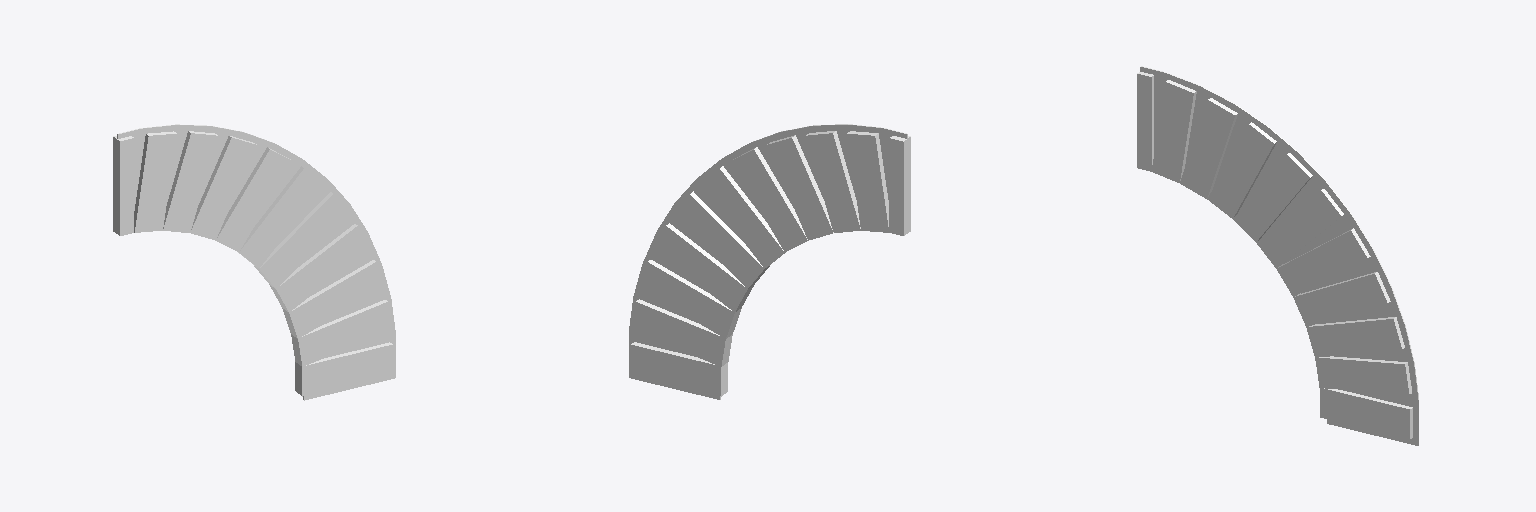
The model's file is lime_mortar_orange_clay_brick_facade_round_arch_2_right.obj.
The picture shows the model from 3 angles: view 1: azimuth 30°, elevation 25°; view 2: azimuth 150°, elevation 25°; view 3: azimuth 330°, elevation 25°; orthographic projection.
Parts seen in each view (by area): view 1: cube.049, cube.048, cube.047, cube.050, cube.051, cube.053, cube.052, cube.055, cube.054, cube.056, cube.057, cube.058 (+7 smaller); view 2: cube.049, cube.050, cube.048, cube.051, cube.053, cube.054, cube.052, cube.047, cube.055, cube.056, cube.057, cube.058 (+3 smaller); view 3: cube.056, cube.048, cube.055, cube.047, cube.049, cube.054, cube.050, cube.053, cube.051, cube.052, cube.057, cube.065 (+10 smaller).
Boxes of the visible parts, x1,y1,x2,y2 form: cube.049: [282, 260, 384, 338]; cube.048: [291, 300, 391, 365]; cube.047: [295, 342, 392, 396]; cube.050: [269, 224, 369, 311]; cube.051: [254, 192, 349, 288]; cube.053: [216, 147, 292, 251]; cube.052: [238, 166, 323, 268]; cube.055: [163, 131, 217, 232]; cube.054: [190, 136, 256, 240]; cube.056: [134, 131, 176, 232]; cube.057: [113, 136, 133, 235]; cube.058: [303, 334, 395, 400]; cube.049: [639, 260, 741, 338]; cube.050: [653, 223, 754, 312]; cube.048: [631, 299, 732, 366]; cube.051: [673, 191, 769, 288]; cube.053: [731, 147, 807, 252]; cube.054: [767, 135, 833, 240]; cube.052: [700, 166, 784, 268]; cube.047: [631, 342, 727, 396]; cube.055: [806, 131, 860, 232]; cube.056: [847, 131, 888, 232]; cube.057: [889, 136, 910, 235]; cube.058: [629, 334, 720, 399]; cube.056: [1152, 80, 1196, 182]; cube.048: [1315, 356, 1411, 394]; cube.055: [1180, 98, 1237, 198]; cube.047: [1320, 388, 1412, 438]; cube.049: [1306, 317, 1404, 357]; cube.054: [1207, 122, 1276, 218]; cube.050: [1293, 272, 1390, 326]; cube.053: [1233, 153, 1312, 241]; cube.051: [1277, 228, 1370, 296]; cube.052: [1256, 189, 1343, 268]; cube.057: [1137, 72, 1153, 171]; cube.065: [1262, 152, 1326, 236].
Bounding box in the file's own units: 1.52 × 1.62 × 0.0677.